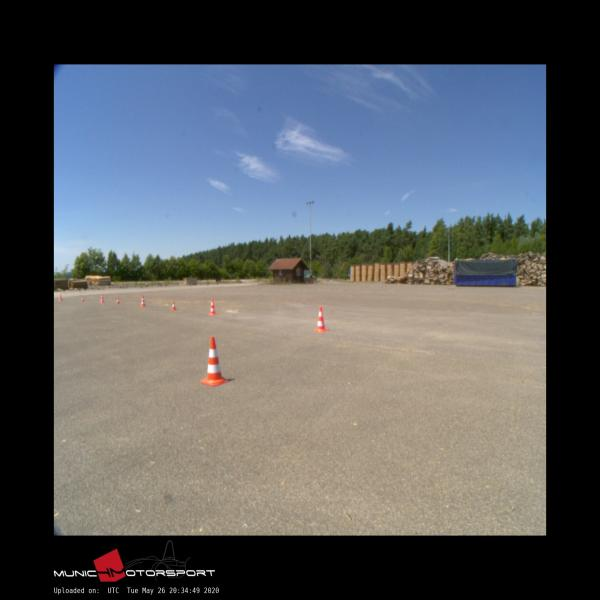large_orange_cone: (201, 336, 227, 386), (312, 306, 328, 331), (208, 298, 216, 315), (140, 294, 146, 306), (99, 294, 104, 302)
orange_cone: (172, 302, 176, 310), (116, 297, 120, 304), (81, 296, 85, 302)
